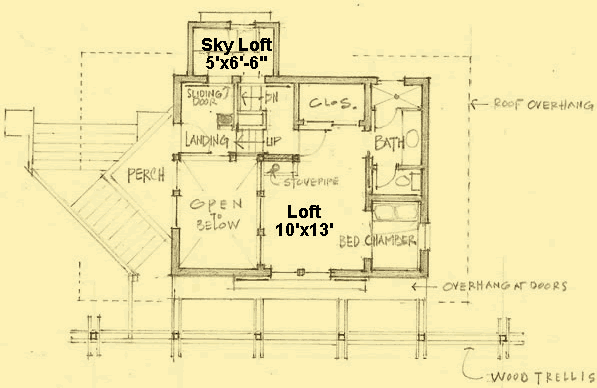bathroom has a large and small sink and tub: (371, 108, 423, 198)
there is a double bed in bedroom: (368, 197, 426, 276)
